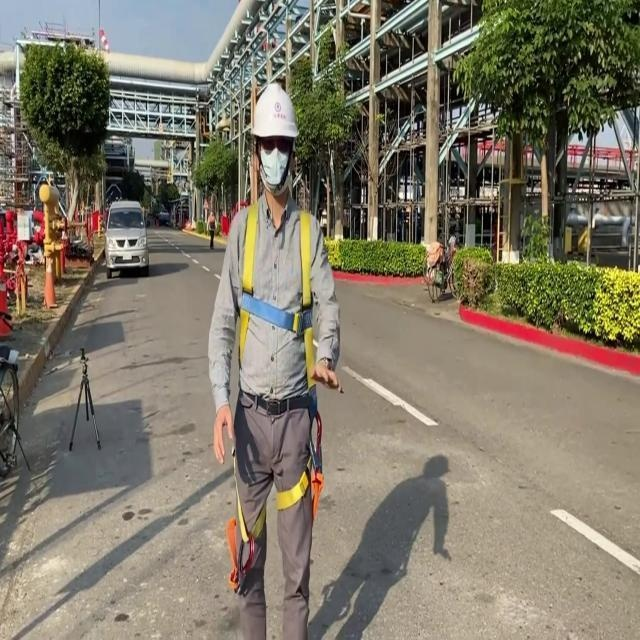Arnes_seguridad: (227, 199, 323, 421)
